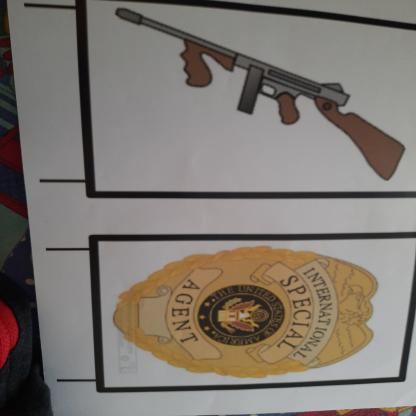Bootlegger: (107, 5, 416, 192)
G-man: (99, 239, 396, 387)
